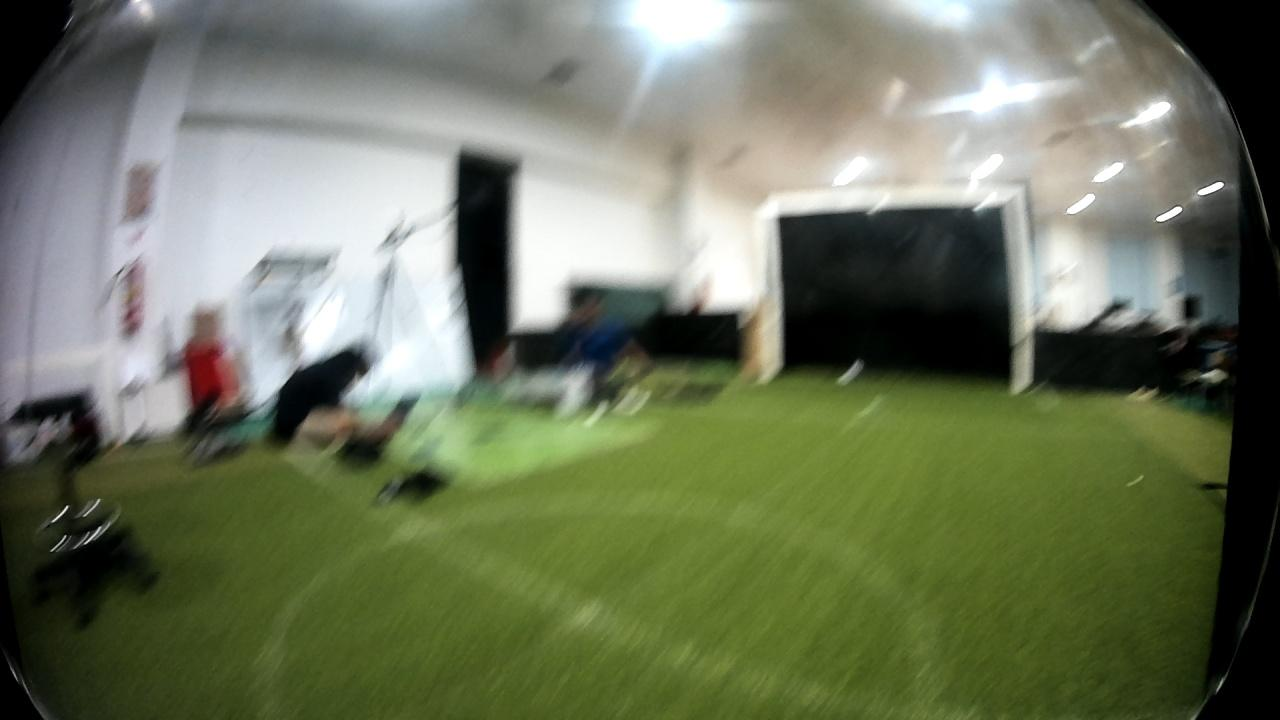ball: (834, 354, 867, 389)
